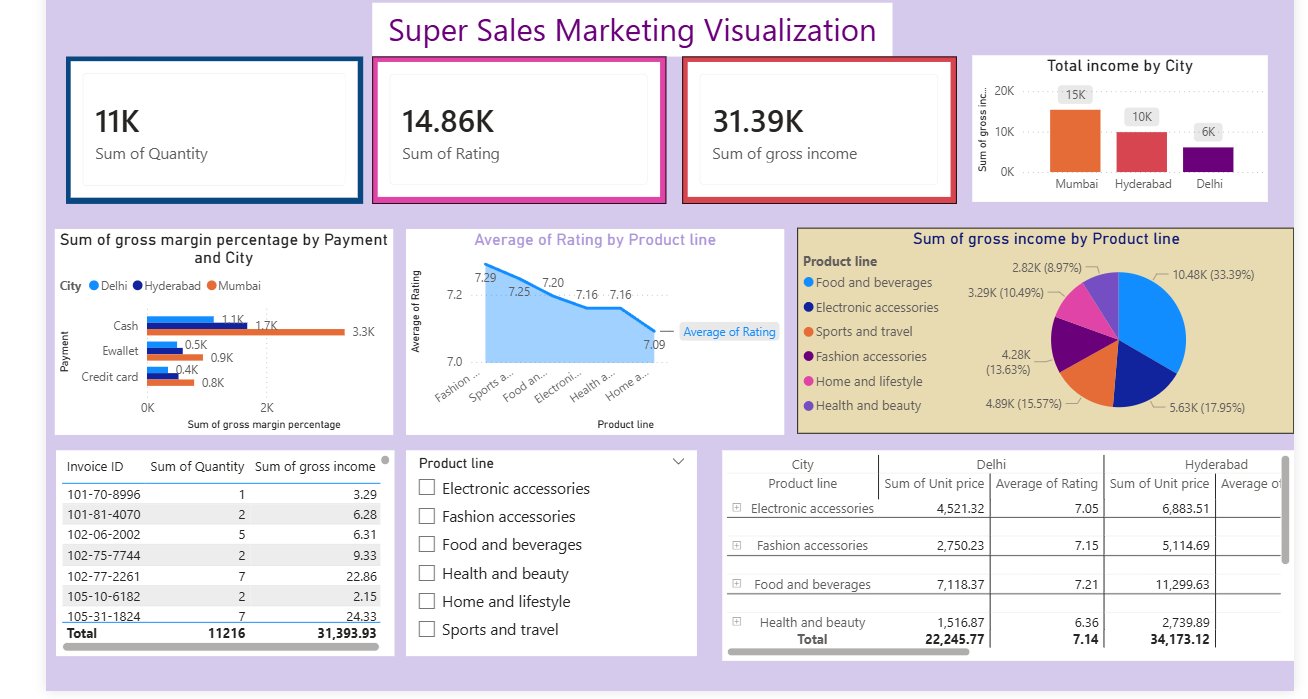

What the dashboard file says about the page in this screenshot:
{"tool":"powerbi","page":{"name":"Page 1","canvas":[1280,720],"ordinal":0},"visuals":[{"type":"textbox","box":[334.8,13.7,533.8,54.9],"z":0},{"type":"cardVisual","fields":{"Data":["Sum(Sheet1.Quantity)"]},"box":[20.6,68.6,304.6,150.9],"z":1000},{"type":"cardVisual","fields":{"Data":["Sum(Sheet1.Rating)"]},"box":[334.8,68.6,301.9,150.9],"z":2000},{"type":"cardVisual","fields":{"Data":["Sum(Sheet1.gross income)"]},"box":[653.2,68.6,281.3,150.9],"z":3000},{"type":"columnChart","title":"Total income by City","fields":{"Category":["Sheet1.City"],"Y":["Sum(Sheet1.gross income)"]},"box":[950,67.7,303.2,150],"z":4000},{"type":"clusteredBarChart","fields":{"Category":["Sheet1.Payment"],"Y":["Sum(Sheet1.gross margin percentage)"],"Series":["Sheet1.City"]},"box":[9.6,245.6,347.2,211.3],"z":5000},{"type":"lineChart","title":"Average of Rating by Product line","fields":{"Y":["Avg(Sheet1.Rating)"],"Category":["Sheet1.Product line"]},"box":[369.1,245.6,388.3,211.3],"z":6000},{"type":"pieChart","fields":{"Y":["Sum(Sheet1.gross income)"],"Category":["Sheet1.Product line"]},"box":[771,245.2,509.7,211.3],"z":7000},{"type":"tableEx","fields":{"Values":["Sheet1.Invoice ID","Sum(Sheet1.Quantity)","Sum(Sheet1.gross income)"]},"box":[10,473,347,211],"z":8000},{"type":"pivotTable","fields":{"Rows":["Sheet1.Product line","Sheet1.Gender"],"Columns":["Sheet1.City"],"Values":["Sum(Sheet1.Unit price)","Avg(Sheet1.Rating)"]},"box":[693.5,472.6,587.1,216.1],"z":9000},{"type":"slicer","fields":{"Values":["Sheet1.Product line"]},"box":[369.4,472.6,298.4,211.3],"z":10000}]}

Visuals, with their boxes on the page's 1280x720 design canvas (x1, y1, x2, y2). These are canvas units, not pixel positions in the 1308x699 screenshot, which may show the page scaled, cropped or inside an application window:
textbox: 335, 14, 869, 69
cardVisual - Sum(Sheet1.Quantity): 21, 69, 325, 220
cardVisual - Sum(Sheet1.Rating): 335, 69, 637, 220
cardVisual - Sum(Sheet1.gross income): 653, 69, 934, 220
"Total income by City" columnChart: 950, 68, 1253, 218
clusteredBarChart - Sheet1.Payment x Sum(Sheet1.gross margin percentage): 10, 246, 357, 457
"Average of Rating by Product line" lineChart: 369, 246, 757, 457
pieChart - Sum(Sheet1.gross income) x Sheet1.Product line: 771, 245, 1281, 456
tableEx - Sheet1.Invoice ID x Sum(Sheet1.Quantity): 10, 473, 357, 684
pivotTable - Sheet1.Product line x Sheet1.Gender: 694, 473, 1281, 689
slicer - Sheet1.Product line: 369, 473, 668, 684
